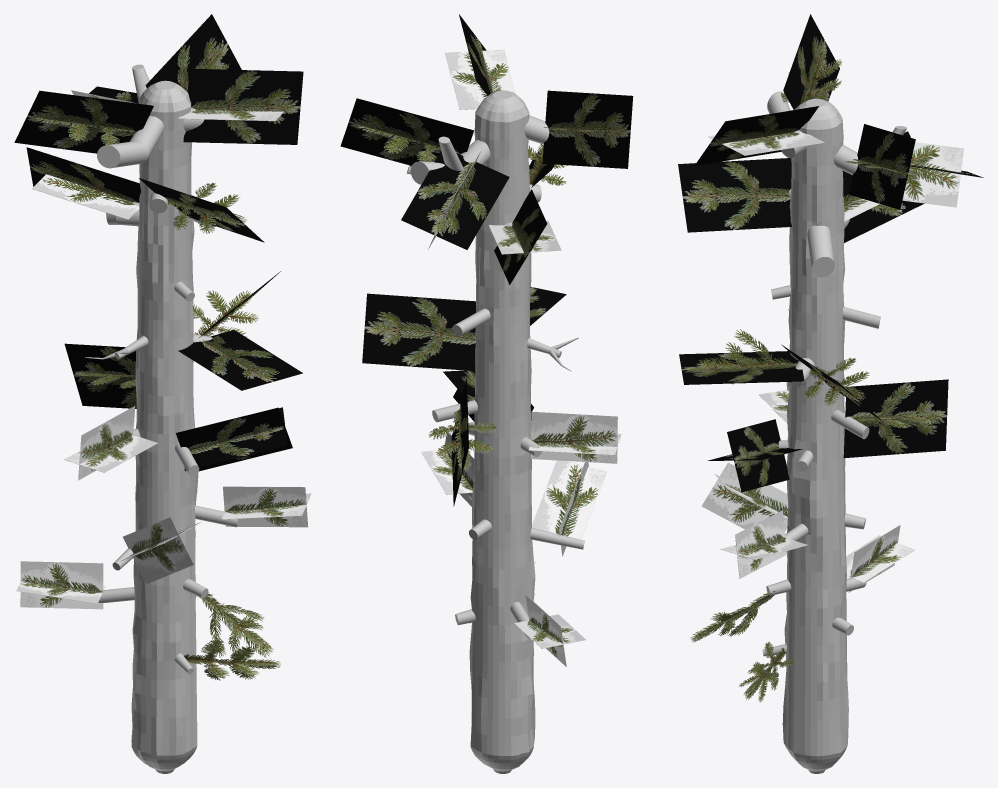
The model's file is pinetree_level3_bottom.fbx.
3 renders of one model, left to right at view 1: azimuth 30°, elevation 25°; view 2: azimuth 150°, elevation 25°; view 3: azimuth 270°, elevation 25°, orthographic. The views are drawn at different scales.
Visible parts, largest first — view 1: Pinetree_level3_bottom; view 2: Pinetree_level3_bottom; view 3: Pinetree_level3_bottom.
Part boxes in pixels (x1,y1,x2,y2): Pinetree_level3_bottom: [14, 14, 311, 773]; Pinetree_level3_bottom: [340, 14, 633, 773]; Pinetree_level3_bottom: [678, 14, 983, 773].
Size of the model in its own units: 224 by 573 by 229.
